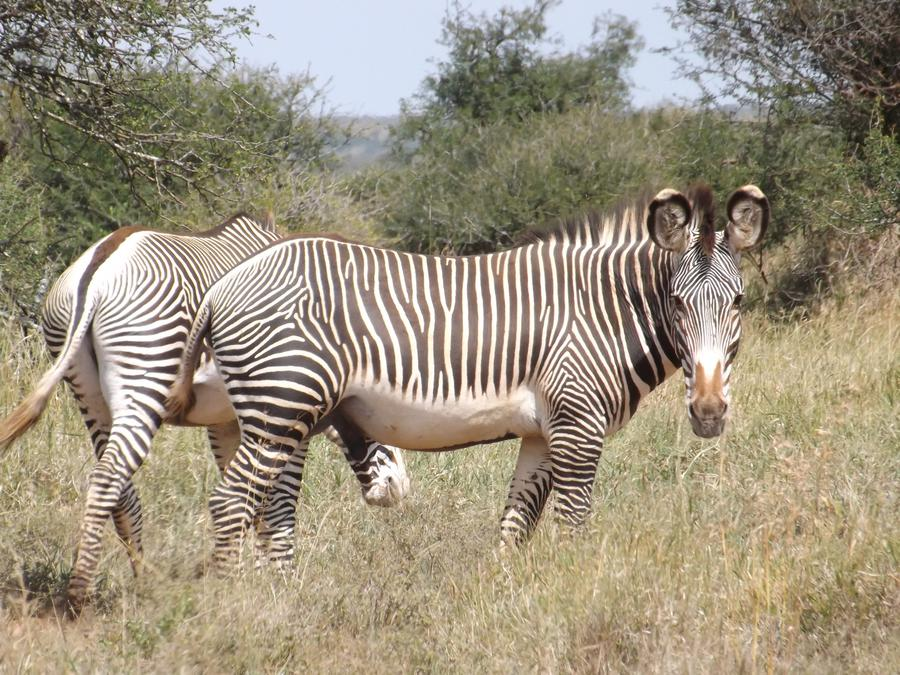zebra_grevys: (241, 252, 615, 410)
